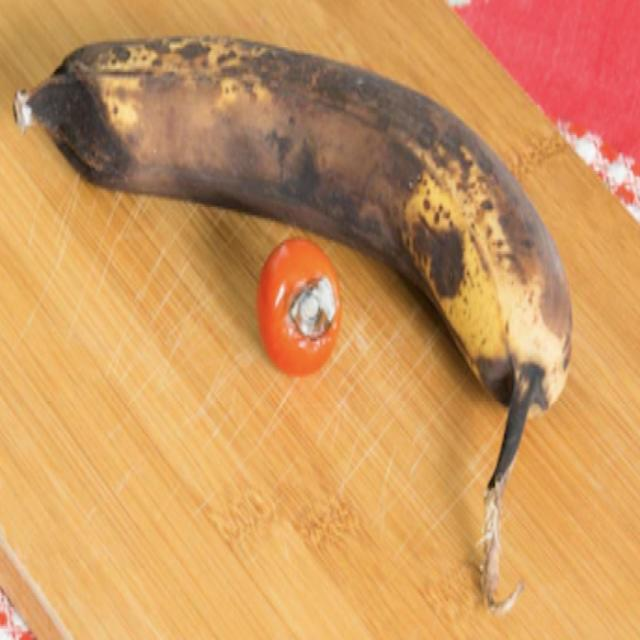rotten-banana: (43, 34, 584, 408)
